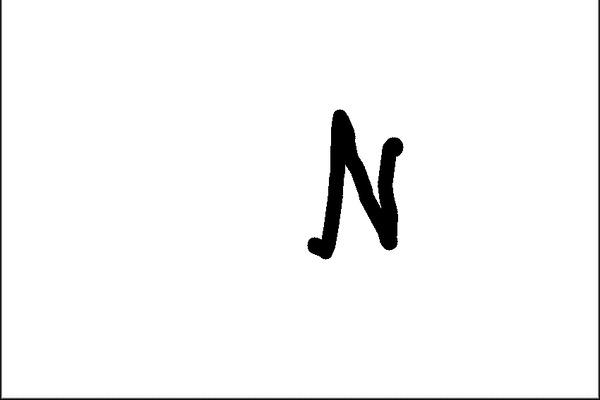N: (302, 101, 410, 263)
